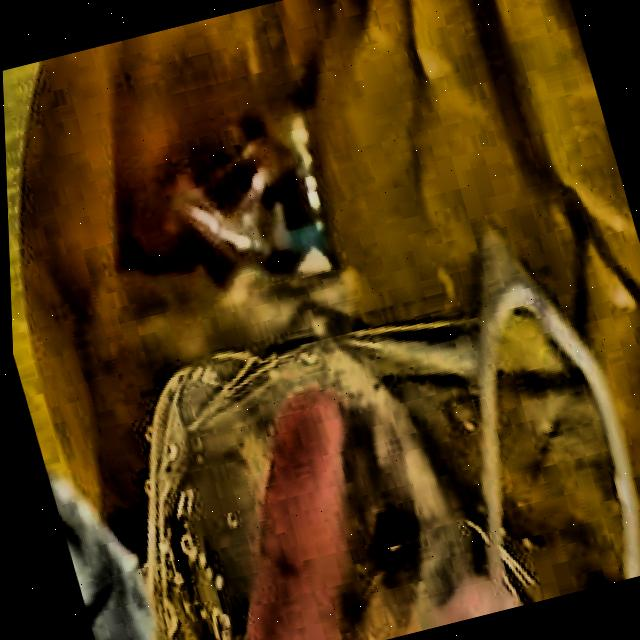plastic: (139, 234, 637, 640)
